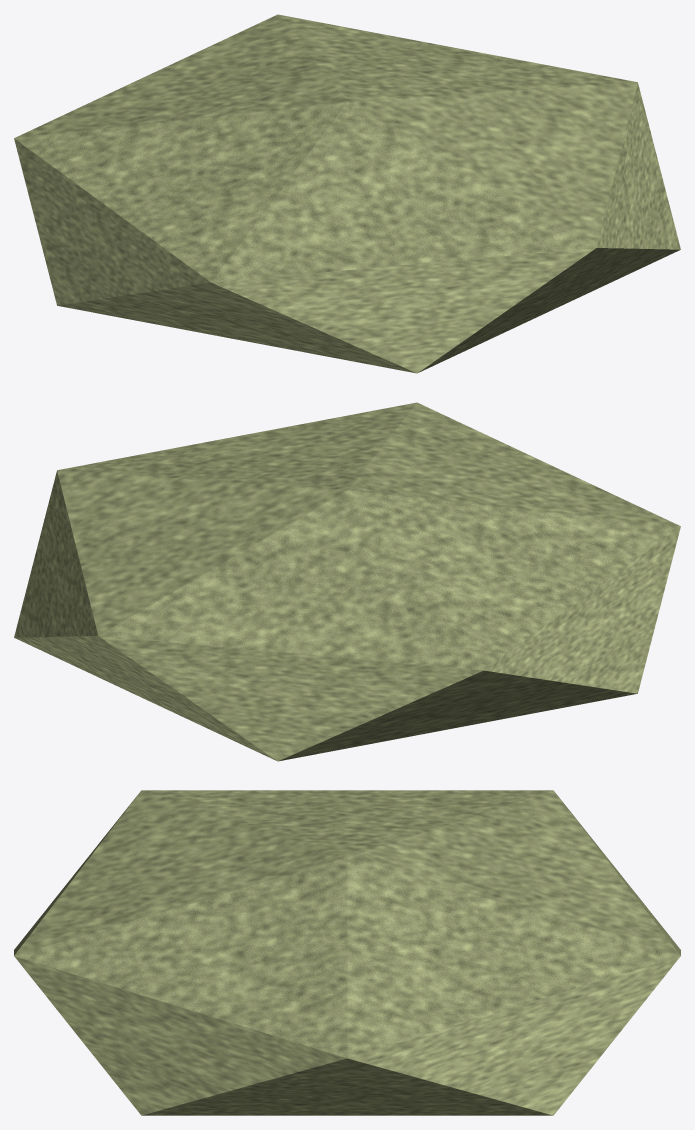
Rendered from bush_low_spread.glb.
The picture shows the model from 3 angles, top to bottom: view 1: azimuth 30°, elevation 25°; view 2: azimuth 150°, elevation 25°; view 3: azimuth 270°, elevation 25°; orthographic projection. The views are drawn at different scales.
Visible parts, largest first — view 1: bush_202; view 2: bush_202; view 3: bush_202.
Part boxes in pixels (bbox=[...]): bush_202: bbox=[14, 14, 680, 373]; bush_202: bbox=[14, 402, 680, 761]; bush_202: bbox=[14, 790, 680, 1115].
Size of the model in its own units: 1.28 by 0.385 by 1.22.
Materials: 1 (1 with a texture image).
